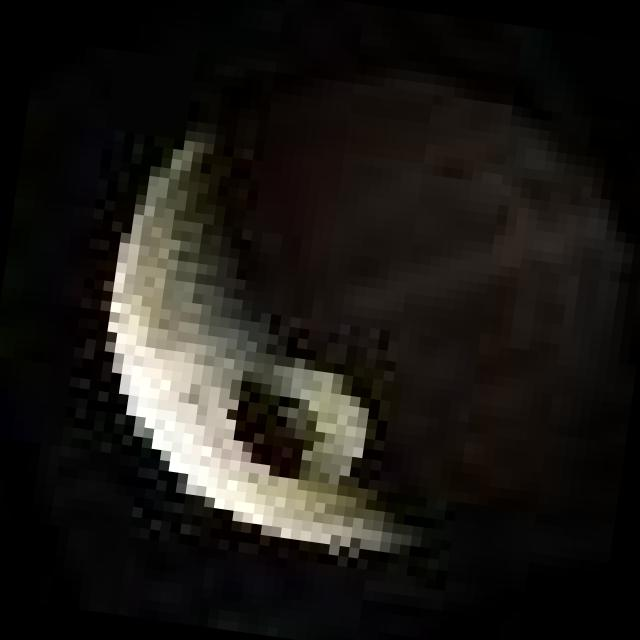Death Star: (58, 100, 486, 587)
